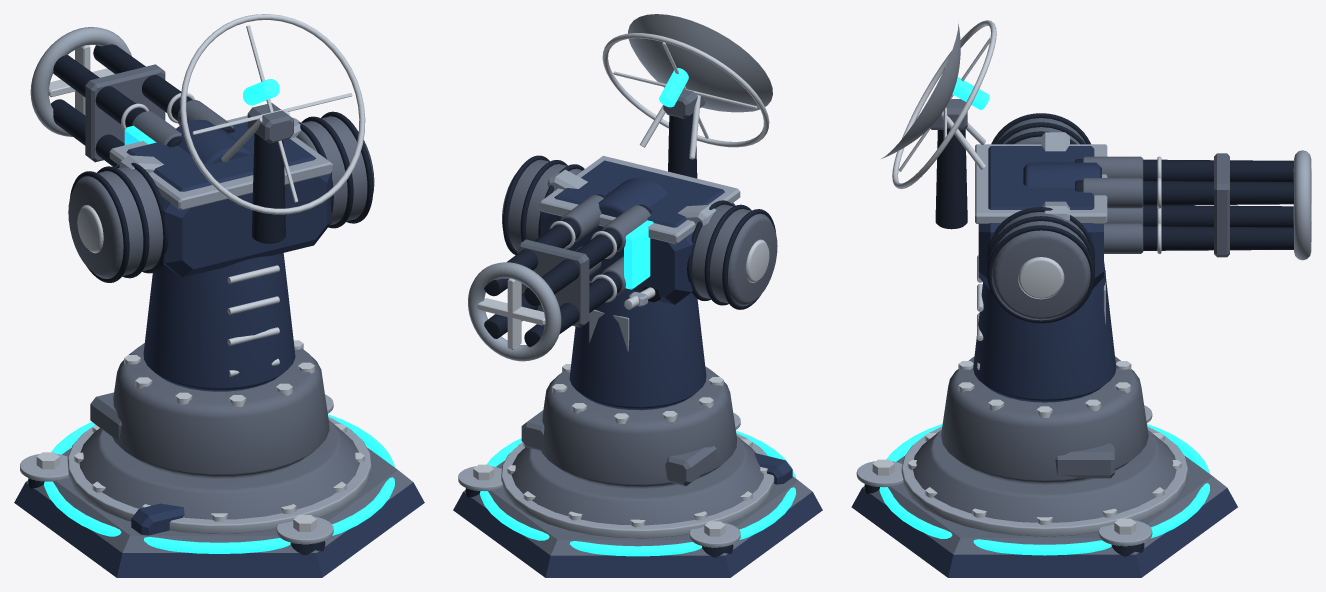
The model's file is tower_skywatch_chassis.glb.
The picture shows the model from 3 angles, left to right: view 1: azimuth 30°, elevation 25°; view 2: azimuth 150°, elevation 25°; view 3: azimuth 270°, elevation 25°; orthographic projection. The views are drawn at different scales.
Parts seen in each view (by area): view 1: skywatch_yaw_drum, skywatch_mast, skywatch_cradle, skywatch_collar, skywatch_baseplate, skywatch_ammo_drum_r, skywatch_baseplate_bevel, skywatch_flange, skywatch_seam, skywatch_radar_rim, skywatch_cradle_deck, skywatch_radar_post (+25 smaller); view 2: skywatch_yaw_drum, skywatch_mast, skywatch_collar, skywatch_baseplate, skywatch_radar_dish, skywatch_cradle, skywatch_ammo_drum_r, skywatch_flange, skywatch_baseplate_bevel, skywatch_flash_ring, skywatch_seam, skywatch_cradle_deck (+33 smaller); view 3: skywatch_yaw_drum, skywatch_mast, skywatch_collar, skywatch_baseplate, skywatch_ammo_drum_l, skywatch_cradle, skywatch_baseplate_bevel, skywatch_flange, skywatch_seam, skywatch_barrel1, skywatch_barrel0, skywatch_barrel3 (+24 smaller).
Boxes of the visible parts, x1,y1,x2,y2 form: skywatch_yaw_drum: [112, 343, 329, 478]; skywatch_mast: [143, 253, 295, 391]; skywatch_cradle: [115, 122, 331, 277]; skywatch_collar: [79, 420, 359, 519]; skywatch_baseplate: [14, 482, 424, 577]; skywatch_ammo_drum_r: [68, 167, 163, 278]; skywatch_baseplate_bevel: [26, 447, 412, 552]; skywatch_flange: [67, 417, 371, 533]; skywatch_seam: [44, 414, 394, 553]; skywatch_radar_rim: [180, 14, 365, 214]; skywatch_cradle_deck: [109, 115, 332, 210]; skywatch_radar_post: [252, 133, 285, 243]; skywatch_yaw_drum: [541, 366, 736, 488]; skywatch_mast: [569, 282, 706, 410]; skywatch_collar: [511, 436, 763, 525]; skywatch_baseplate: [453, 492, 822, 577]; skywatch_radar_dish: [628, 14, 772, 112]; skywatch_cradle: [540, 160, 735, 304]; skywatch_ammo_drum_r: [692, 204, 777, 306]; skywatch_flange: [501, 433, 774, 538]; skywatch_baseplate_bevel: [463, 460, 812, 555]; skywatch_flash_ring: [468, 262, 561, 361]; skywatch_seam: [480, 430, 796, 556]; skywatch_cradle_deck: [539, 155, 740, 244]; skywatch_yaw_drum: [941, 356, 1148, 484]; skywatch_mast: [973, 262, 1116, 402]; skywatch_collar: [913, 429, 1176, 522]; skywatch_baseplate: [851, 488, 1237, 577]; skywatch_ammo_drum_l: [991, 212, 1090, 320]; skywatch_cradle: [978, 146, 1103, 289]; skywatch_baseplate_bevel: [862, 455, 1226, 554]; skywatch_flange: [901, 426, 1187, 536]; skywatch_seam: [879, 424, 1209, 555]; skywatch_barrel1: [1075, 180, 1293, 205]; skywatch_barrel0: [1143, 226, 1293, 250]; skywatch_barrel3: [1075, 159, 1293, 181].
Size of the model in its own units: 1.87 by 2.98 by 2.57.
